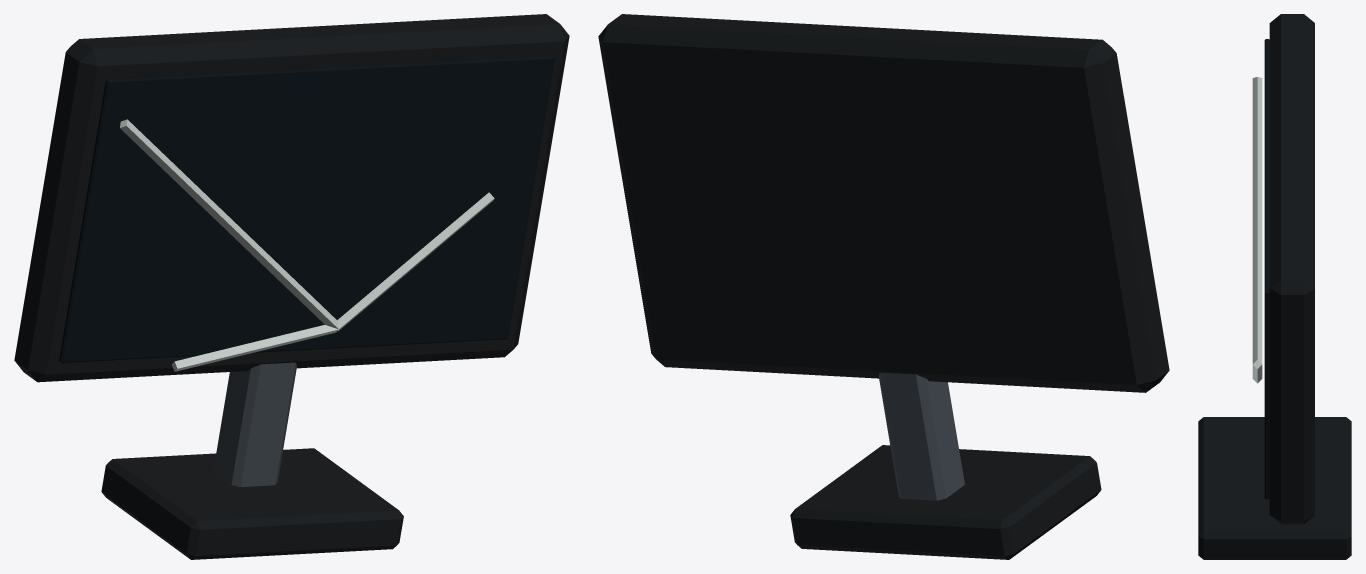
File: BrokenMonitor.fbx
The picture shows the model from 3 angles, left to right: view 1: azimuth 30°, elevation 25°; view 2: azimuth 150°, elevation 25°; view 3: azimuth 270°, elevation 25°; orthographic projection. The views are drawn at different scales.
Visible parts, largest first — view 1: BrokenMonitor; view 2: BrokenMonitor; view 3: BrokenMonitor.
Boxes of the visible parts, x1,y1,x2,y2 form: BrokenMonitor: (14,14,569,559); BrokenMonitor: (598,14,1169,559); BrokenMonitor: (1198,14,1351,559).
Size of the model in its own units: 75.01 by 69.92 by 22.
Materials: 1 (1 with a texture image).
